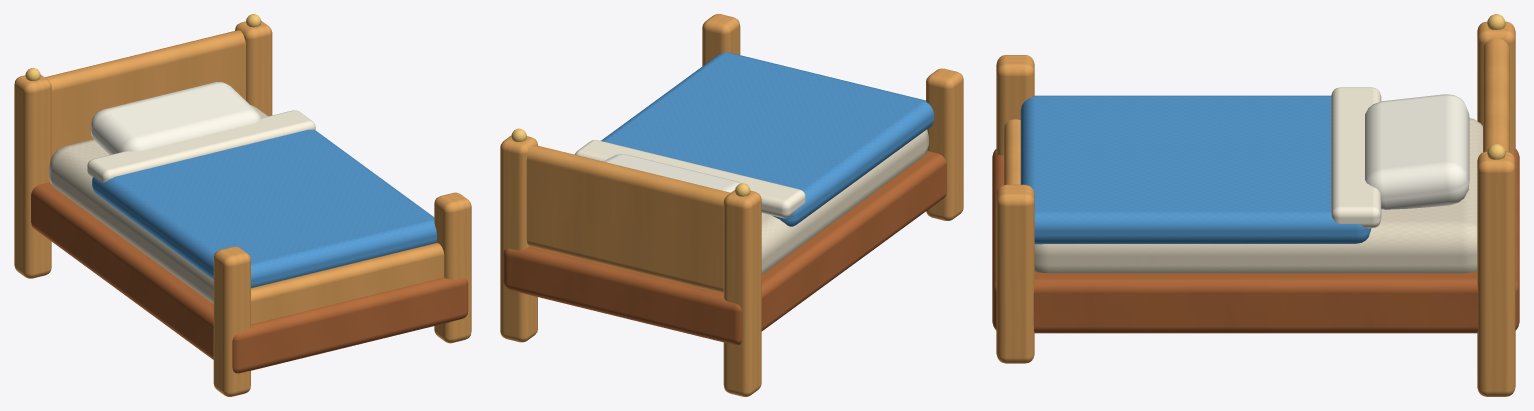
The model's file is BED.glb.
3 views of the same model, side by side, from view 1: azimuth 30°, elevation 25°; view 2: azimuth 150°, elevation 25°; view 3: azimuth 270°, elevation 25° (orthographic). The views are drawn at different scales.
Parts seen in each view (by area): view 1: BED; view 2: BED; view 3: BED.
Boxes of the visible parts, bbox=[...] form: BED: bbox=[14, 14, 471, 396]; BED: bbox=[500, 14, 963, 396]; BED: bbox=[992, 14, 1519, 396].
Size of the model in its own units: 1.04 by 0.818 by 1.58.
Materials: 7 (4 with a texture image).
